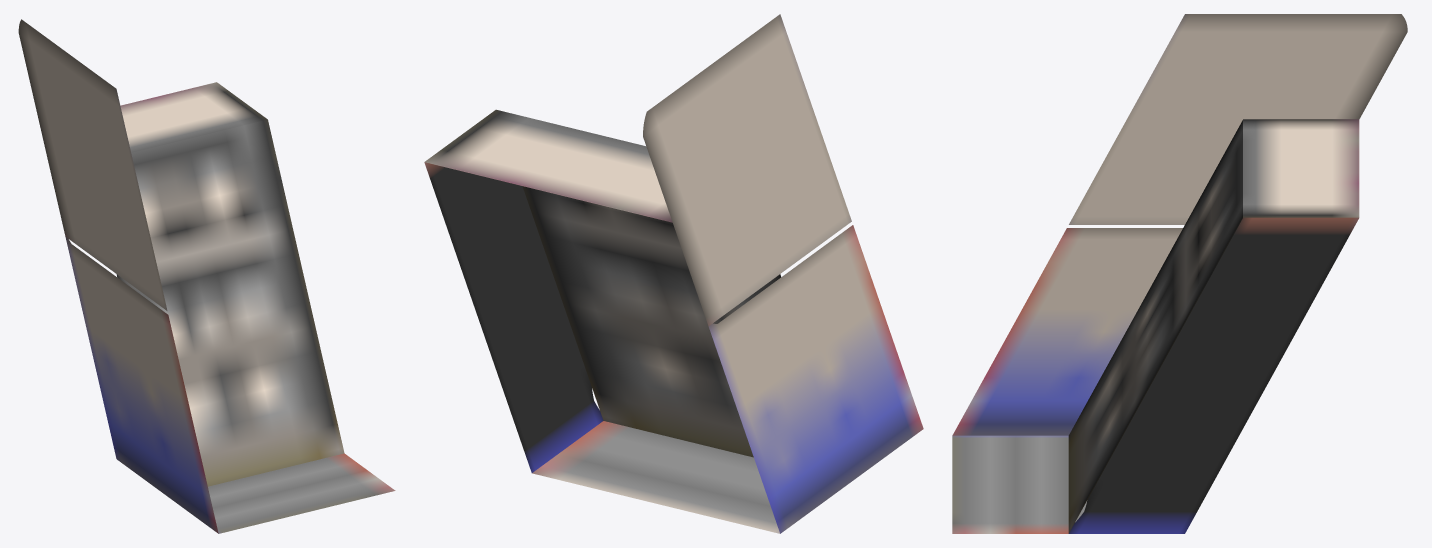
File: tile_lab_bookshelf_3.obj
3 renders of one model, left to right at view 1: azimuth 30°, elevation 25°; view 2: azimuth 150°, elevation 25°; view 3: azimuth 270°, elevation 25°, orthographic. The views are drawn at different scales.
Visible parts, largest first — view 1: Default; view 2: Default; view 3: Default.
Part boxes in pixels (x1,y1,x2,y2): Default: (18,19,395,533); Default: (424,14,923,533); Default: (952,14,1407,533).
Size of the model in its own units: 1 by 2 by 2.
Materials: 1 (1 with a texture image).
